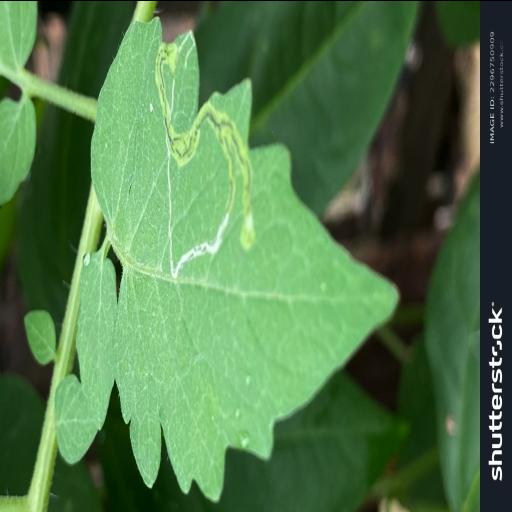disease_tomato: (90, 0, 404, 512)
